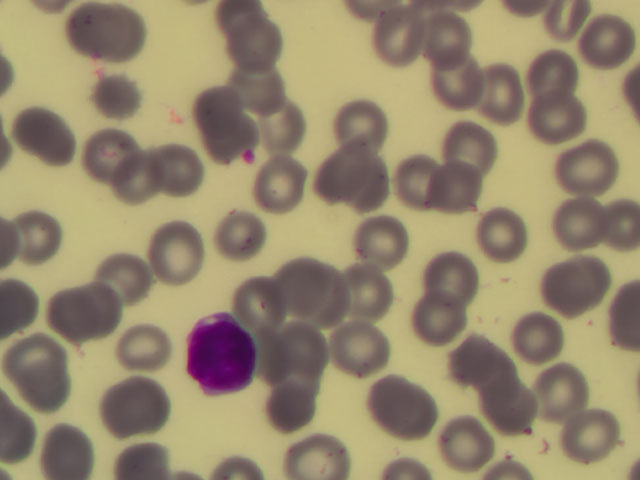Platelets: (238, 150, 256, 165)
RBC: (66, 4, 121, 59), (97, 8, 152, 63), (90, 68, 145, 123), (19, 102, 74, 157), (84, 125, 139, 180), (110, 151, 165, 206), (147, 144, 202, 199), (188, 81, 243, 136), (198, 100, 253, 155), (228, 61, 283, 116), (227, 19, 282, 74), (257, 97, 312, 152), (253, 160, 308, 215), (216, 201, 271, 256), (150, 226, 205, 281), (96, 249, 151, 304), (81, 283, 136, 338), (36, 284, 91, 339), (6, 329, 61, 384), (22, 360, 77, 415), (118, 317, 173, 372), (98, 382, 153, 437), (42, 423, 97, 478), (296, 425, 351, 480), (268, 381, 323, 436), (283, 314, 338, 369), (232, 276, 287, 331), (279, 260, 334, 315), (302, 274, 357, 329), (329, 267, 384, 322), (340, 321, 395, 376), (355, 216, 410, 271), (304, 146, 359, 201), (344, 157, 399, 212), (337, 96, 392, 151), (392, 152, 447, 207), (426, 160, 481, 215), (445, 116, 500, 171), (434, 49, 489, 104), (426, 11, 481, 66), (373, 10, 428, 65), (478, 69, 533, 124), (528, 46, 583, 101), (585, 14, 640, 69), (523, 89, 578, 144), (561, 136, 616, 191), (555, 188, 610, 243), (549, 258, 604, 313), (476, 205, 531, 260), (433, 245, 488, 300), (407, 291, 462, 346), (443, 333, 498, 388), (469, 349, 524, 404), (486, 382, 541, 437), (508, 307, 563, 362), (534, 364, 589, 419), (568, 408, 623, 463), (437, 416, 492, 471), (391, 388, 446, 443), (359, 366, 414, 421)
WBC: (182, 309, 260, 393)
